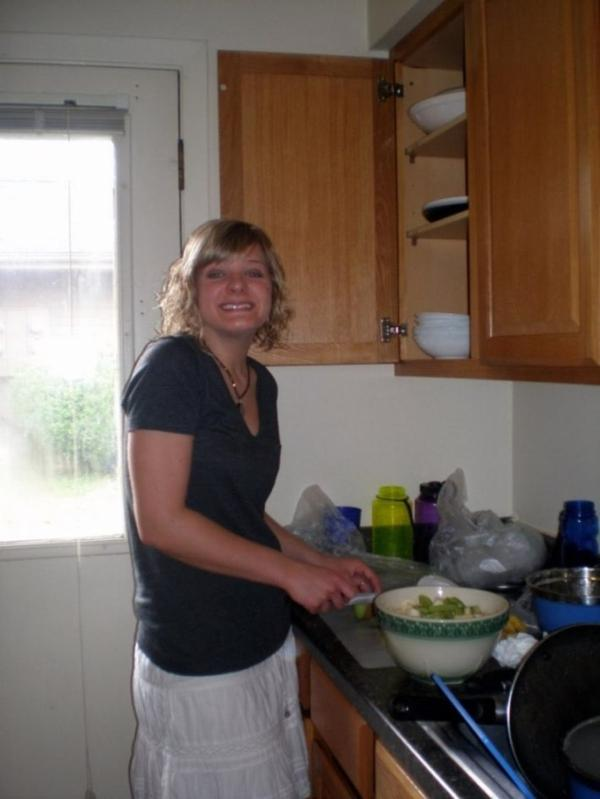person: (124, 219, 382, 795)
